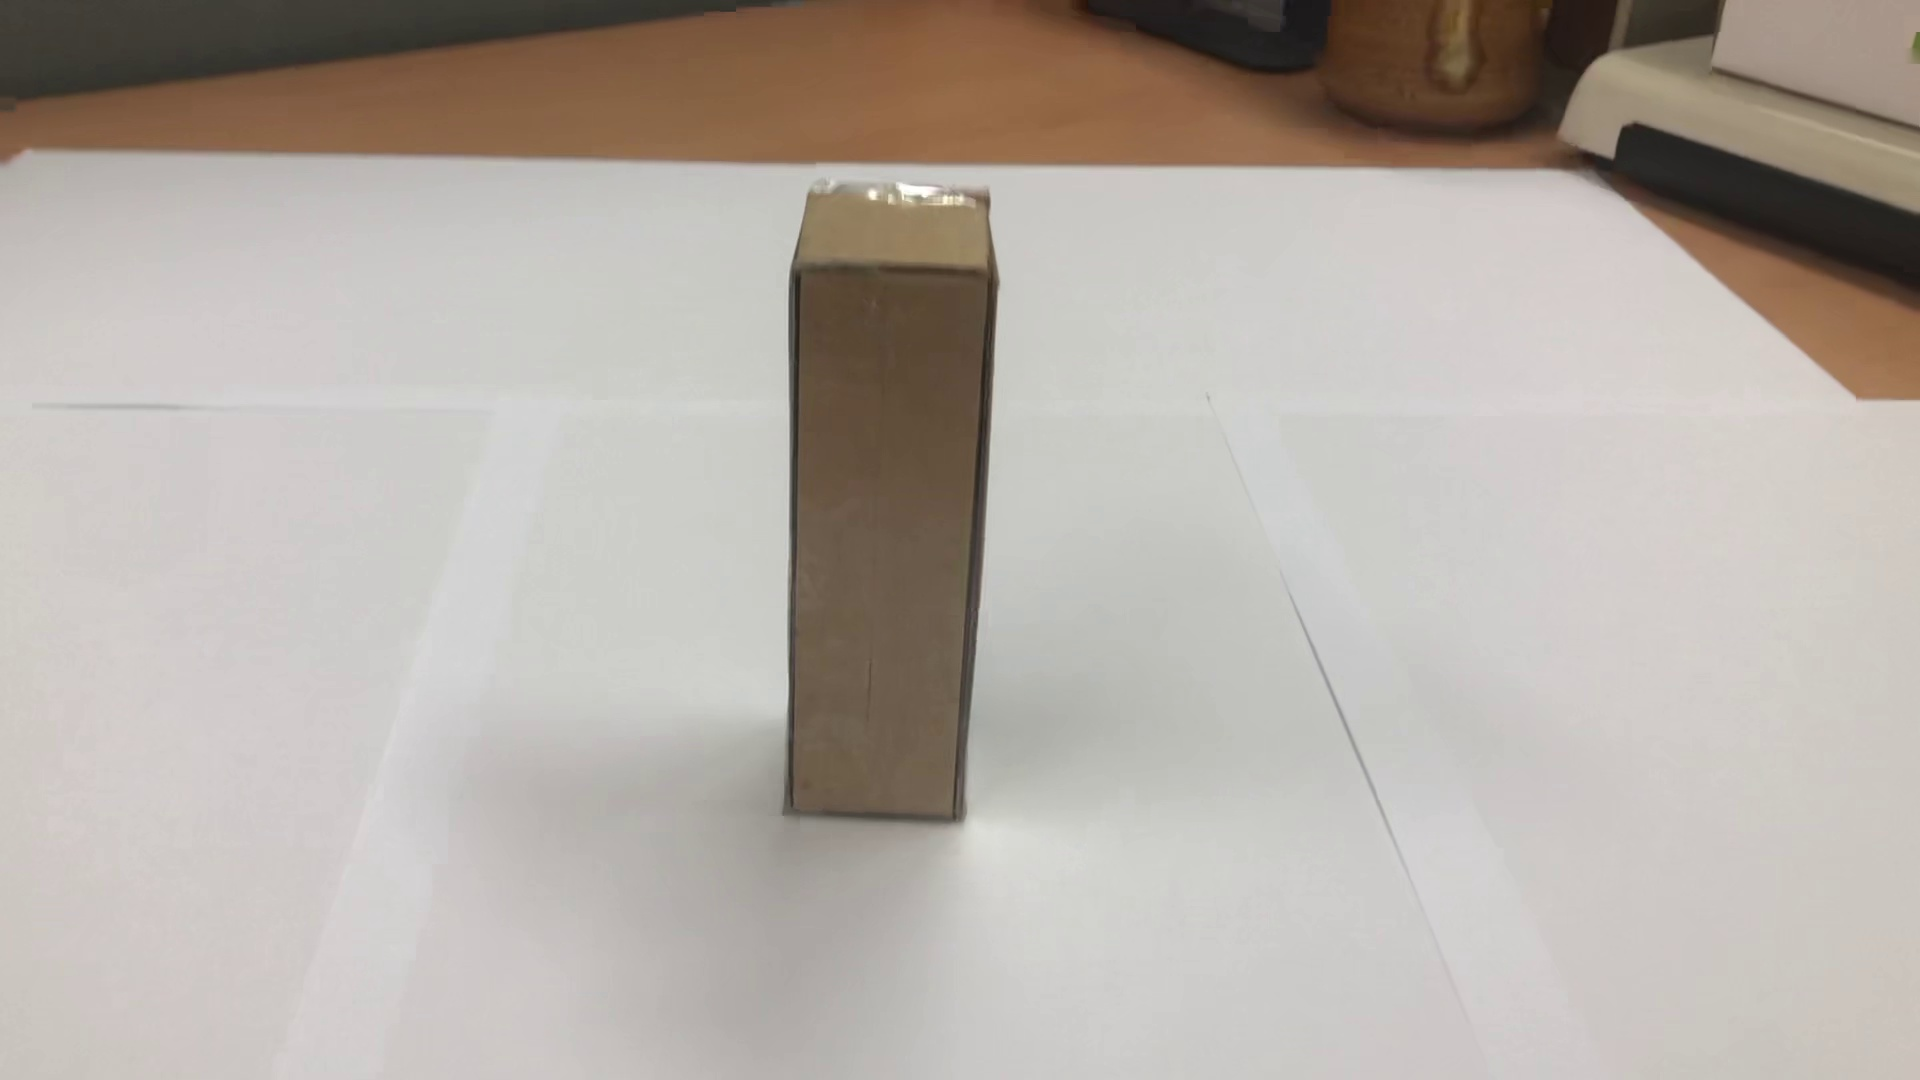box: (738, 164, 1038, 848)
